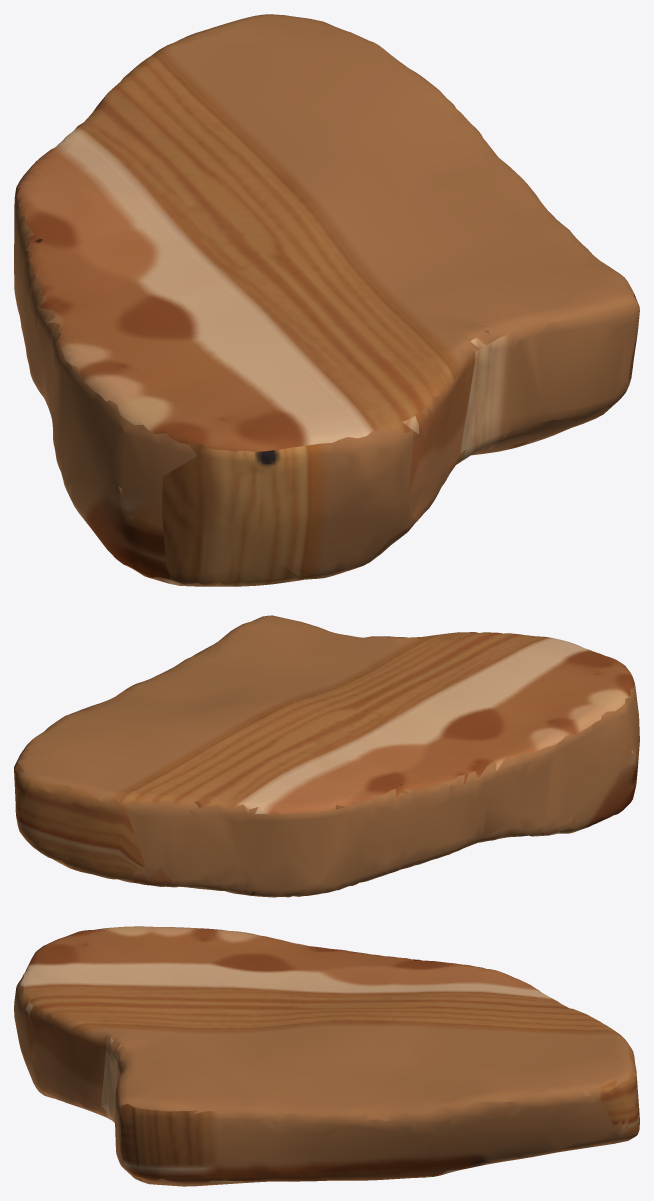
Rendered from Glacier_board02.fbx.
3 renders of one model, top to bottom at view 1: azimuth 30°, elevation 25°; view 2: azimuth 150°, elevation 25°; view 3: azimuth 270°, elevation 25°, orthographic. The views are drawn at different scales.
Parts seen in each view (by area): view 1: material_0; view 2: material_0; view 3: material_0.
Part boxes in pixels (x1,y1,x2,y2): material_0: (14, 14, 639, 586); material_0: (14, 615, 639, 897); material_0: (14, 926, 639, 1186).
Bounding box in the file's own units: 0.2356 × 0.077 × 0.3113.
